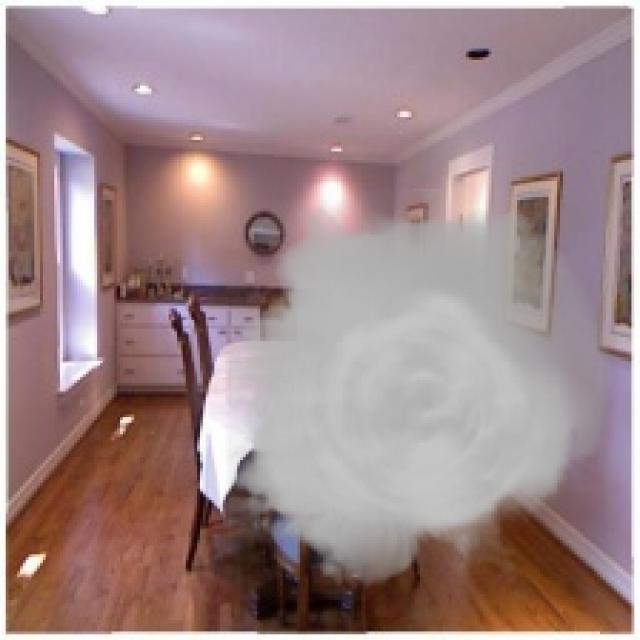Smoke: (226, 188, 612, 600)
